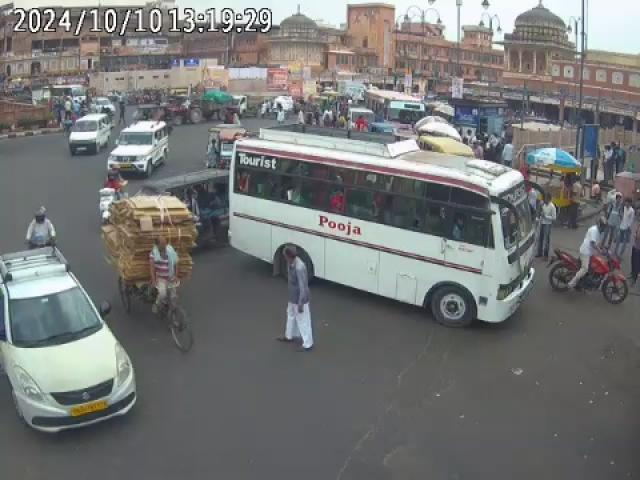bus: (227, 124, 541, 326), (68, 112, 114, 154), (384, 96, 429, 134)
car: (0, 246, 138, 436), (110, 122, 172, 180)
helmet: (592, 216, 610, 234), (33, 209, 47, 221)
license_plate: (69, 400, 111, 416)
motorbike-rider: (544, 214, 630, 305), (24, 207, 58, 248)
person: (273, 243, 314, 350)
rickshow: (97, 188, 200, 348)
